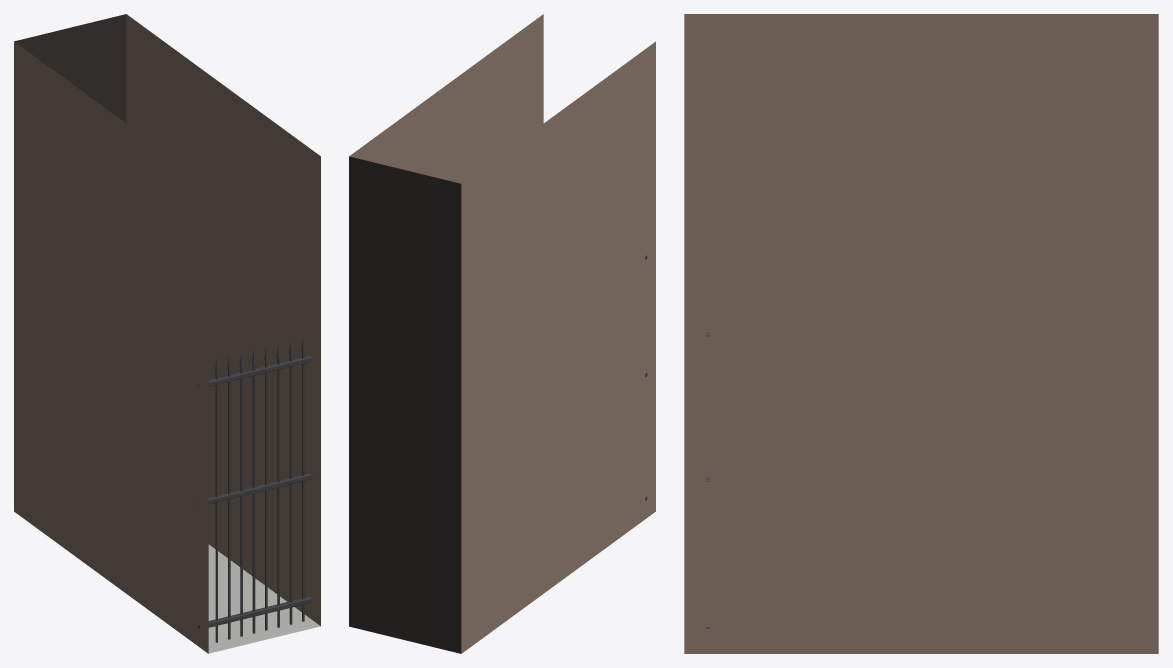
Rendered from filler_alley_g_10.glb.
The picture shows the model from 3 angles, left to right: view 1: azimuth 30°, elevation 25°; view 2: azimuth 150°, elevation 25°; view 3: azimuth 270°, elevation 25°; orthographic projection. The views are drawn at different scales.
Parts seen in each view (by area): view 1: filler_alley_g_10; view 2: filler_alley_g_10; view 3: filler_alley_g_10.
Boxes of the visible parts, left/top/right/bottom form: filler_alley_g_10: left=14, top=14, right=320, bottom=653; filler_alley_g_10: left=349, top=14, right=655, bottom=653; filler_alley_g_10: left=684, top=14, right=1158, bottom=653.
Size of the model in its own units: 1 by 4 by 3.
